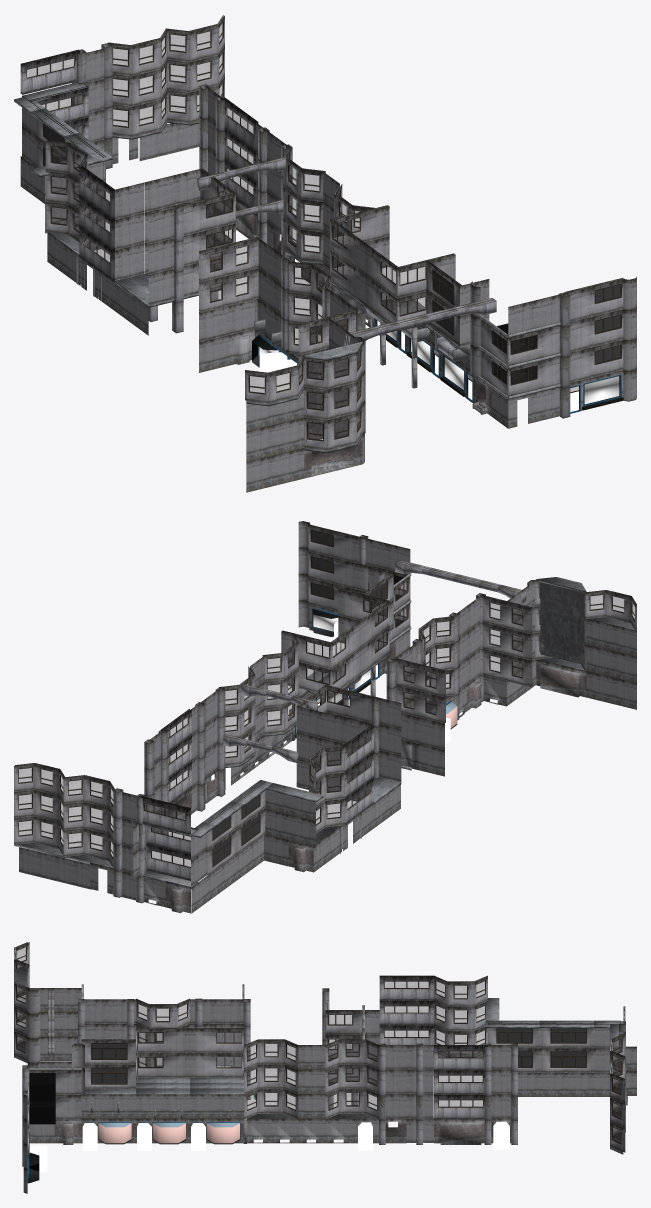
Rendered from city_walls.glb.
The picture shows the model from 3 angles, top to bottom: view 1: azimuth 30°, elevation 25°; view 2: azimuth 150°, elevation 25°; view 3: azimuth 270°, elevation 25°; orthographic projection. The views are drawn at different scales.
Visible parts, largest first — view 1: wall_window_1_corn__13_, wall_window_1_corn__19_, wall_window_1_corn__1_, wall_window_1_corn, wall_window_1_corn__17_, wall_window_5__3__1, wall_window_3__1__1, wall_window_5__2__5.001, wall_window_3_1, wall_window_4__1__3, wall_window_5__1__1.001, wall_a_2__3_ (+57 smaller); view 2: Плоскость.001, wall_window_1_corn__19_, wall_window_1_corn__13_, wall_window_1_corn__18_, wall_window_1_corn__17_, wall_window_5__3__1, Object101_1, Box013_2, wall_window_3__2_, wall_window_5__2__5, wall_window_3__1__1, wall_window_5__2__5.001 (+59 smaller); view 3: wall_window_5__12_, wall_window_4__2__1, wall_window_5__14_, wall_window_5__2__4, wall_window_1_corn__13_, wall_window_5__5__1, wall_window_1_corn__17_, wall_window_5__4__2, wall_window_5__15_, wall_window_4__1__2, wall_window_2_1, wall_a_3__29_ (+80 smaller).
Part boxes in pixels (<box>): wall_window_1_corn__13_: <box>363,243,455,298</box>; wall_window_1_corn__19_: <box>330,205,389,273</box>; wall_window_1_corn__1_: <box>480,319,559,367</box>; wall_window_1_corn: <box>480,350,559,398</box>; wall_window_1_corn__17_: <box>176,168,235,235</box>; wall_window_5__3__1: <box>245,356,304,403</box>; wall_window_3__1__1: <box>199,237,258,282</box>; wall_window_5__2__5.001: <box>165,15,224,62</box>; wall_window_3_1: <box>199,268,258,312</box>; wall_window_4__1__3: <box>20,49,80,94</box>; wall_window_5__1__1.001: <box>304,404,362,450</box>; wall_a_2__3_: <box>246,448,304,492</box>; Плоскость.001: <box>538,579,586,664</box>; wall_window_1_corn__19_: <box>281,622,360,669</box>; wall_window_1_corn__13_: <box>338,588,389,647</box>; wall_window_1_corn__18_: <box>288,649,360,695</box>; wall_window_1_corn__17_: <box>296,685,375,731</box>; wall_window_5__3__1: <box>585,590,636,630</box>; Object101_1: <box>536,659,586,697</box>; Box013_2: <box>308,524,359,563</box>; wall_window_3__2_: <box>480,595,532,634</box>; wall_window_5__2__5: <box>63,775,115,814</box>; wall_window_3__1__1: <box>394,658,445,697</box>; wall_window_5__2__5.001: <box>14,763,64,802</box>; wall_window_5__12_: <box>244,1039,298,1070</box>; wall_window_4__2__1: <box>379,975,433,1000</box>; wall_window_5__14_: <box>244,1064,298,1094</box>; wall_window_5__2__4: <box>434,975,487,1006</box>; wall_window_1_corn__13_: <box>136,1028,189,1054</box>; wall_window_5__5__1: <box>325,1039,379,1070</box>; wall_window_1_corn__17_: <box>325,1002,379,1035</box>; wall_window_5__4__2: <box>325,1064,378,1094</box>; wall_window_5__15_: <box>244,1089,298,1119</box>; wall_window_4__1__2: <box>379,1001,433,1025</box>; wall_window_2_1: <box>542,1048,596,1072</box>; wall_a_3__29_: <box>190,1094,244,1118</box>.
Bounding box in the file's own units: 53.7 × 16.51 × 92.
Materials: 20 (11 with a texture image).
